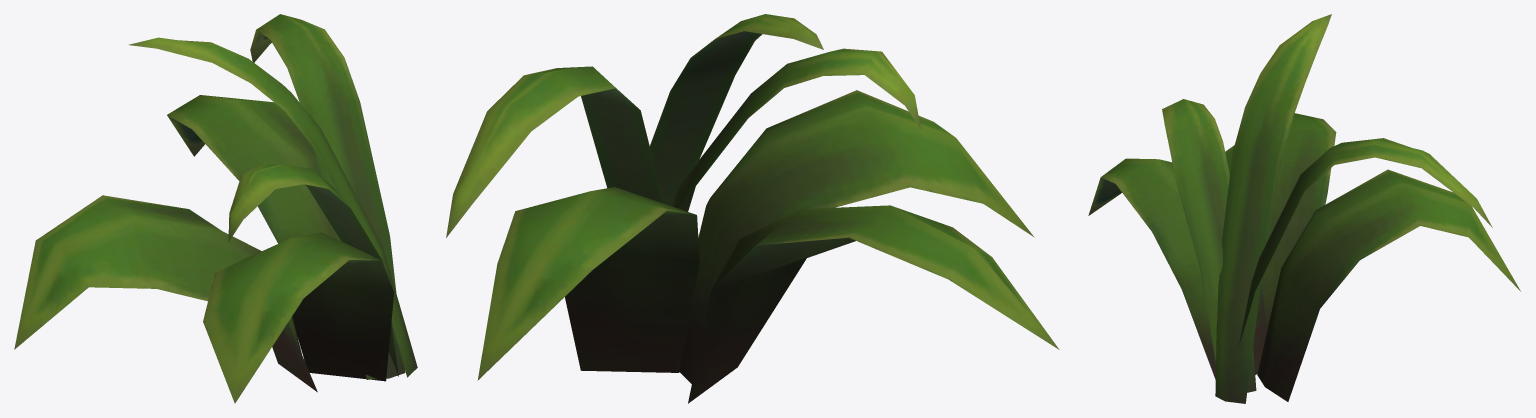
File: Grass.fbx
3 renders of one model, left to right at view 1: azimuth 30°, elevation 25°; view 2: azimuth 150°, elevation 25°; view 3: azimuth 270°, elevation 25°, orthographic. The views are drawn at different scales.
Parts seen in each view (by area): view 1: exterior_grass_01 (8); view 2: exterior_grass_01 (8); view 3: exterior_grass_01 (8).
Part boxes in pixels (bbox=[...]): exterior_grass_01 (8): bbox=[14, 14, 417, 403]; exterior_grass_01 (8): bbox=[446, 14, 1059, 403]; exterior_grass_01 (8): bbox=[1088, 14, 1520, 403].
Bounding box in the file's own units: 50.26 × 42.78 × 56.28.
